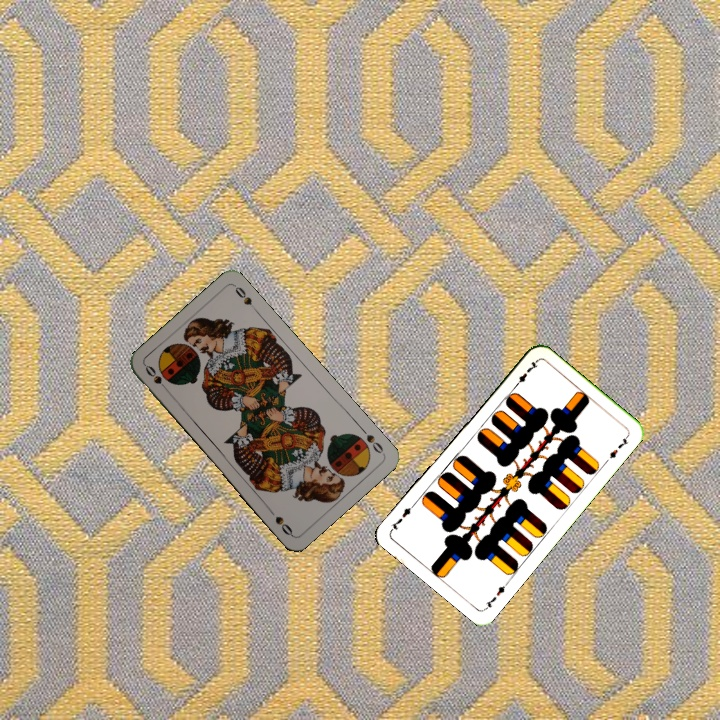E7: (510, 357, 540, 391), (481, 578, 511, 612)
SO: (141, 361, 172, 395), (356, 423, 386, 457)
